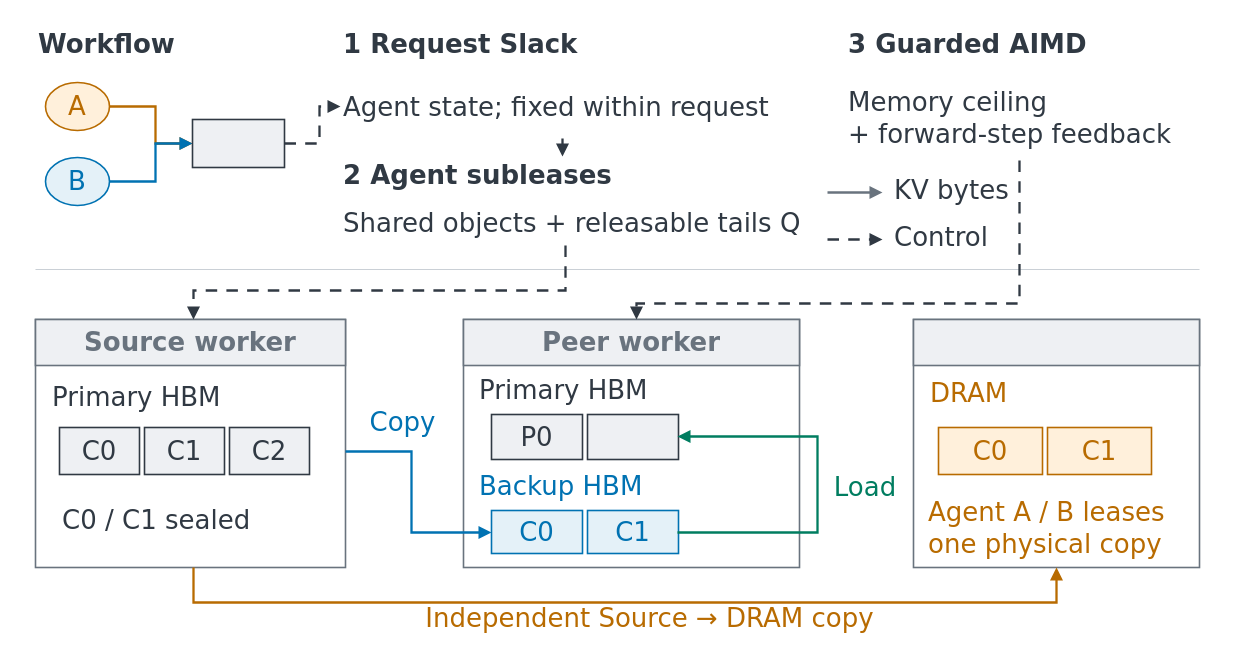
Some shapes in this 1236 by 661 pixel diagram are drawn without their labels. The shapes that lost their labels are listed below. From the top down, each one's centre as x and y in pixels, then its label:
At [238,143]: "Join".
At [1056,342]: "Store node".
At [632,436]: "P1".
